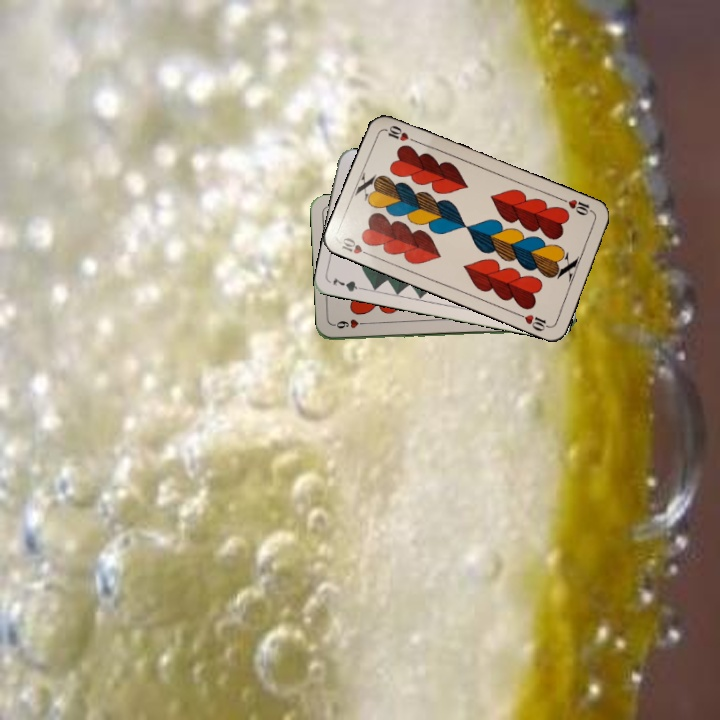G7: (329, 273, 369, 294)
H10: (336, 233, 375, 260), (558, 195, 597, 218)
H9: (330, 317, 371, 331)
